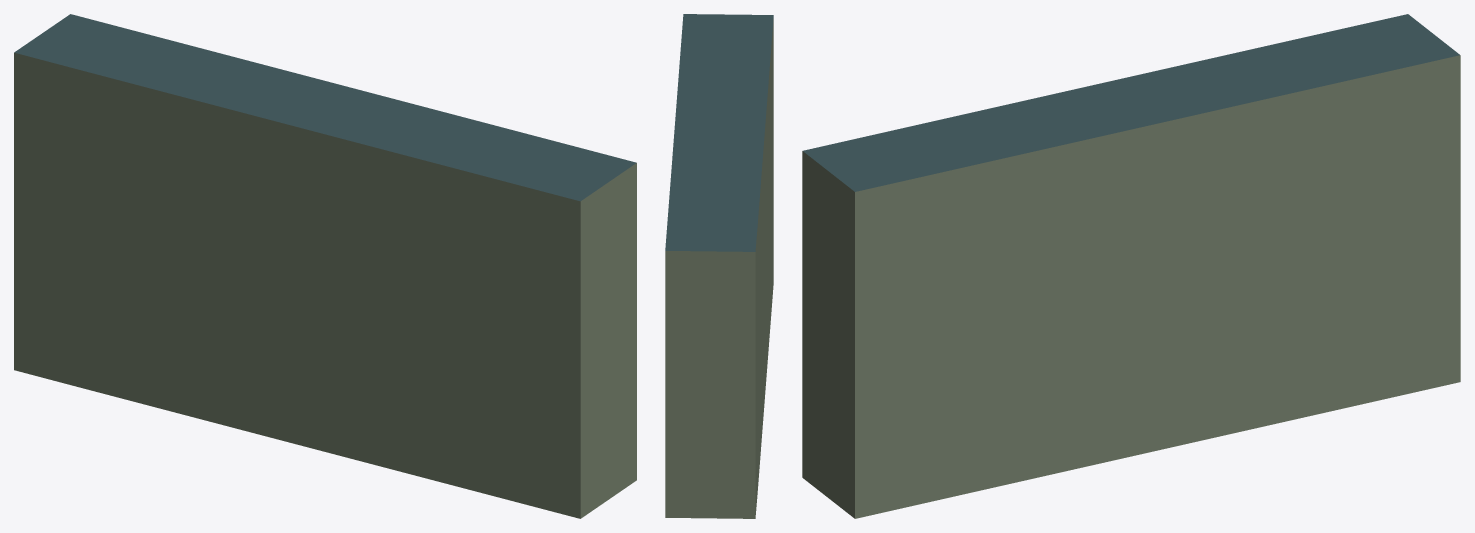
File: nyc-1022647-0.glb
3 views of the same model, side by side, from view 1: azimuth 30°, elevation 25°; view 2: azimuth 150°, elevation 25°; view 3: azimuth 270°, elevation 25° (orthographic). The views are drawn at different scales.
Visible parts, largest first — view 1: nyc-1022647-0; view 2: nyc-1022647-0; view 3: nyc-1022647-0.
Boxes of the visible parts, x1,y1,x2,y2 form: nyc-1022647-0: (14, 14, 636, 518); nyc-1022647-0: (665, 14, 773, 518); nyc-1022647-0: (802, 14, 1460, 518).
Bounding box in the file's own units: 18.51 × 15.85 × 28.91.
